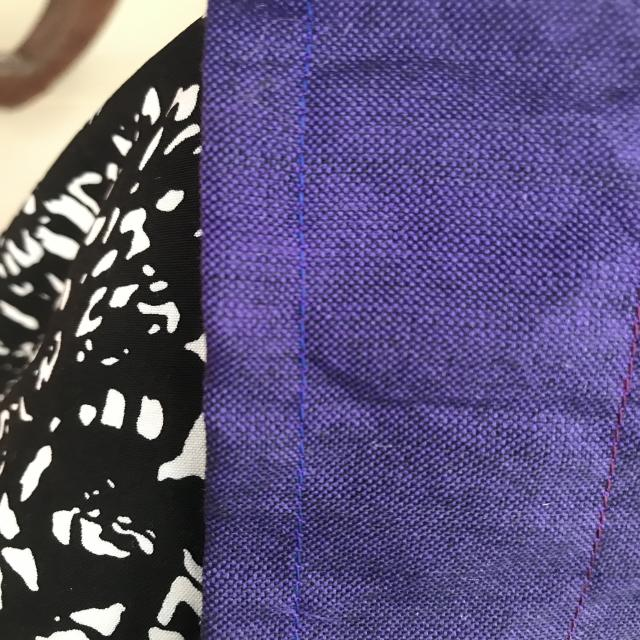good: (290, 167, 326, 306), (584, 464, 623, 571)
